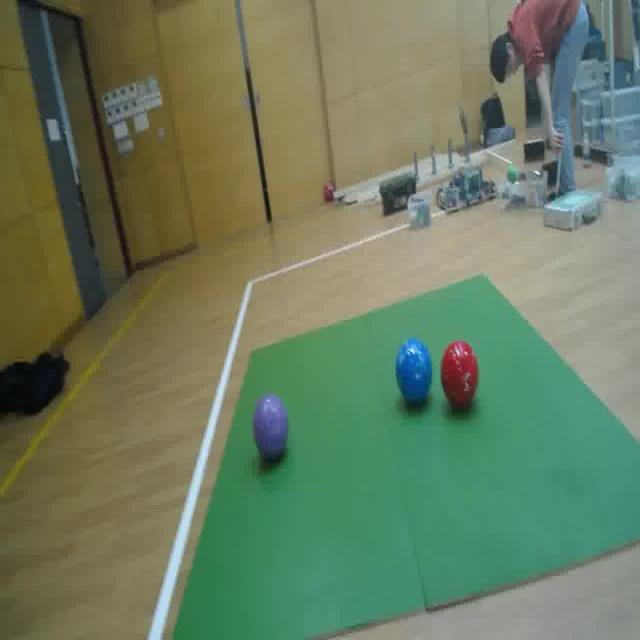blue_ball: (396, 338, 432, 403)
purple_ball: (252, 396, 288, 460)
red_ball: (441, 338, 479, 409)
